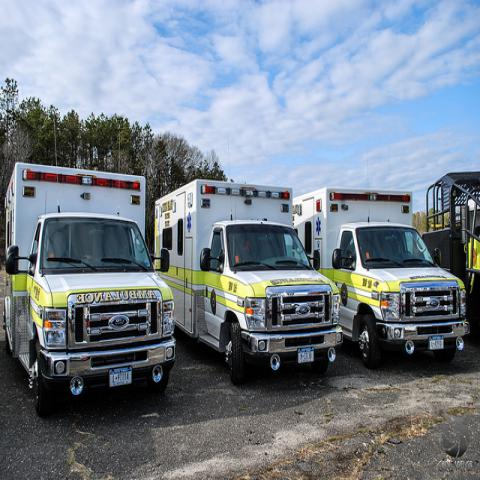truck: (2, 163, 176, 418), (155, 179, 342, 384), (293, 184, 471, 374), (421, 174, 479, 341)
